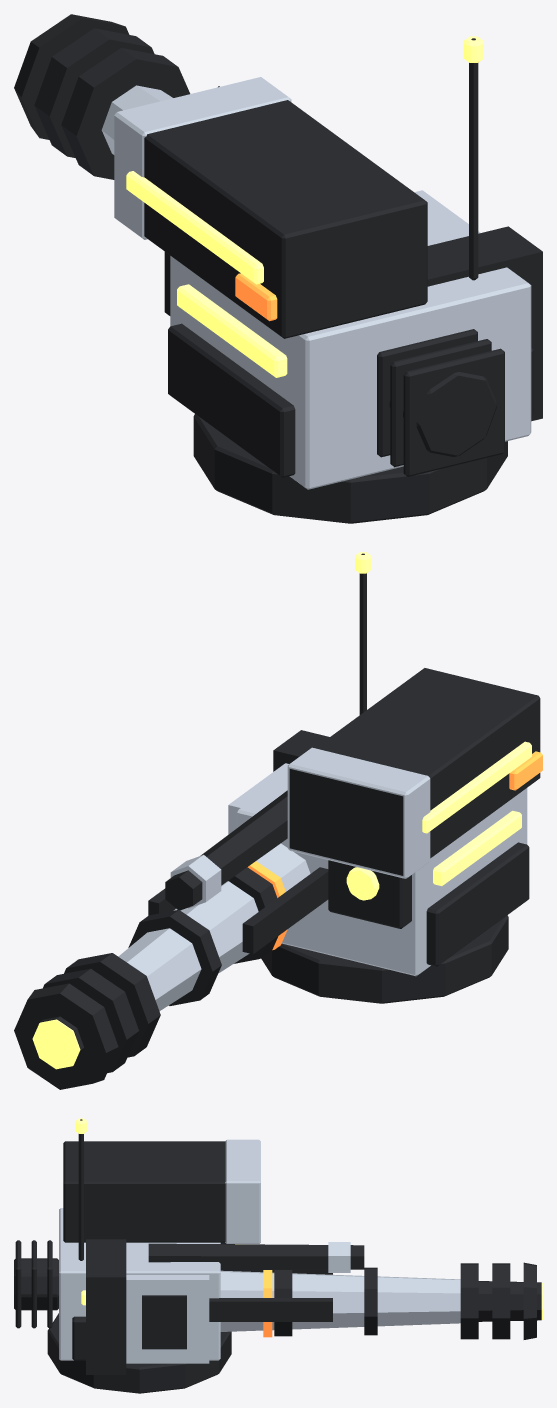
Rendered from tower_cannon_turret.glb.
3 renders of one model, top to bottom at view 1: azimuth 30°, elevation 25°; view 2: azimuth 150°, elevation 25°; view 3: azimuth 270°, elevation 25°, orthographic. The views are drawn at different scales.
Visible parts, largest first — view 1: TowerCannon_Turret, TowerCannon_Barrel; view 2: TowerCannon_Turret, TowerCannon_Barrel; view 3: TowerCannon_Barrel, TowerCannon_Turret.
Boxes of the visible parts, x1=… form: TowerCannon_Turret: x1=114, y1=36, x2=533, y2=523; TowerCannon_Barrel: x1=14, y1=14, x2=542, y2=421; TowerCannon_Turret: x1=236, y1=552, x2=542, y2=1003; TowerCannon_Barrel: x1=14, y1=730, x2=329, y2=1089; TowerCannon_Barrel: x1=86, y1=1239, x2=542, y2=1374; TowerCannon_Turret: x1=14, y1=1118, x2=260, y2=1393.
Bounding box in the file's own units: 0.4335 × 0.63 × 1.18.
